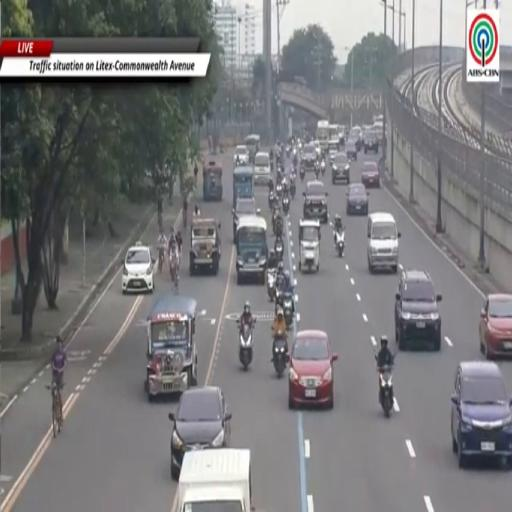car: (451, 361, 511, 468), (169, 387, 232, 479), (288, 330, 337, 408), (395, 269, 441, 350), (367, 212, 401, 273), (480, 294, 511, 358), (122, 242, 154, 294), (233, 198, 260, 243), (303, 181, 328, 223), (346, 184, 368, 215), (331, 153, 350, 184), (254, 152, 270, 185), (361, 162, 380, 188), (301, 144, 317, 171), (363, 130, 379, 154), (233, 145, 249, 166), (350, 126, 362, 151), (345, 139, 357, 161), (312, 140, 321, 157)
jeepney: (145, 295, 197, 401), (236, 216, 267, 283), (190, 217, 221, 275), (299, 219, 320, 270), (233, 167, 253, 207), (203, 162, 223, 201), (245, 135, 260, 164)
motorcycle: (237, 320, 253, 371), (378, 366, 393, 418), (273, 333, 287, 378), (283, 292, 293, 328), (334, 229, 344, 257), (267, 269, 276, 300), (271, 200, 279, 234), (275, 282, 283, 313), (273, 213, 283, 236), (275, 238, 284, 261), (158, 248, 164, 273), (283, 196, 289, 215), (268, 191, 274, 210), (290, 180, 296, 199), (276, 183, 282, 200), (314, 163, 320, 180), (321, 159, 326, 175), (300, 168, 305, 182), (286, 146, 291, 157), (293, 153, 297, 166), (294, 162, 298, 174), (293, 148, 296, 157)
truck: (177, 448, 253, 511), (316, 120, 329, 152)
